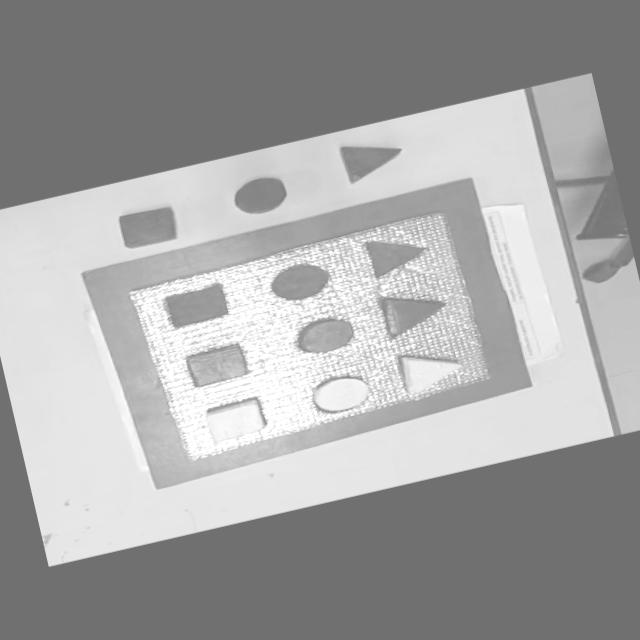bcircle: (228, 172, 290, 220)
bcube: (114, 202, 182, 254)
btriangle: (336, 132, 407, 186)
mtcircle: (265, 259, 333, 307)
mtcube: (161, 282, 233, 331)
mttriangle: (362, 228, 432, 280)
rcircle: (294, 313, 358, 358)
rcube: (182, 342, 250, 390)
rtriangle: (378, 286, 451, 338)
wb: (127, 208, 496, 468)
ycircle: (310, 371, 374, 417)
ycube: (203, 396, 269, 445)
ytriangle: (399, 344, 466, 396)
